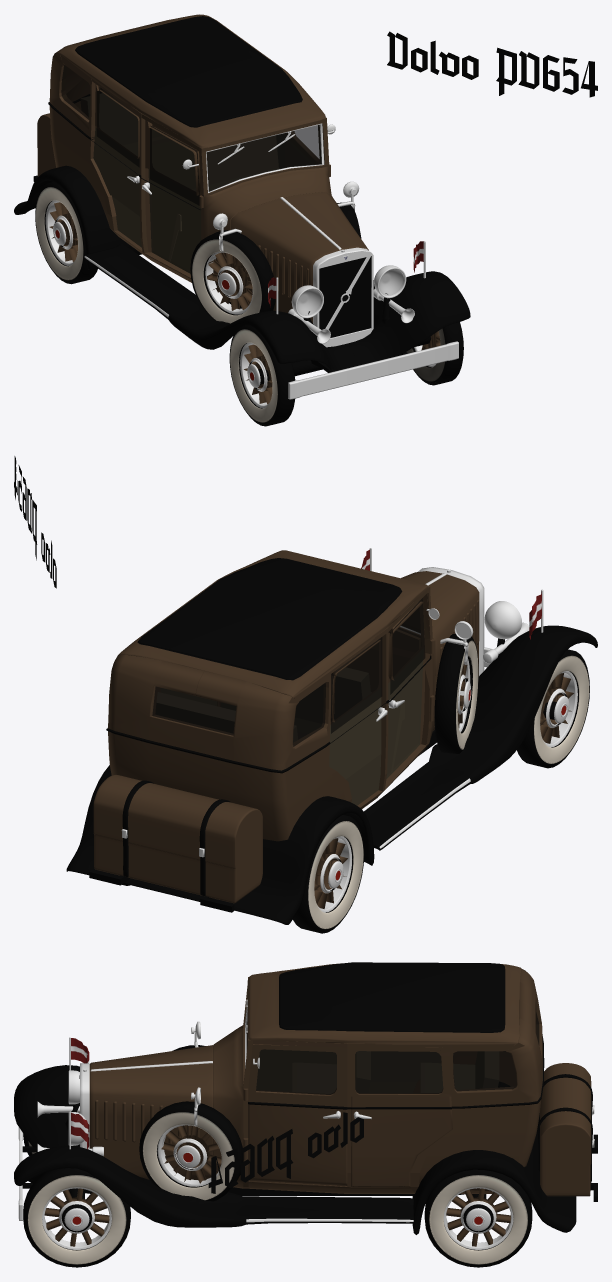
Rendered from volvo_pv654_sedan_free_v2.glb.
3 views of the same model, one above another, from view 1: azimuth 30°, elevation 25°; view 2: azimuth 150°, elevation 25°; view 3: azimuth 270°, elevation 25° (orthographic). The views are drawn at different scales.
Parts seen in each view (by area): view 1: Plane.001, Cube.005, Cube.008, Cube.023, Cube.022, Cube.024, Cube.019, Cylinder.016, Cube.020, Cylinder.017, Text, Cube.015 (+9 smaller); view 2: Plane.001, Cube.005, Cube.032, Cube.008, Cube.015, Cube.024, Cube.023, Cylinder.017, Cylinder.016, Cube.022, Cube.020, Cube.021 (+3 smaller); view 3: Plane.001, Cube.005, Cube.008, Cube.016, Cube.017, Cylinder.009, Cylinder.015, Cube.022, Cube.032, Cube.015, Text, Cube.024 (+9 smaller).
Part boxes in pixels (box(x1,y1,x2,y2)): Plane.001: box(48, 19, 373, 347); Cube.005: box(58, 14, 325, 147); Cube.008: box(84, 243, 470, 370); Cube.023: box(140, 118, 201, 273); Cube.022: box(190, 181, 361, 323); Cube.024: box(90, 84, 141, 247); Cube.019: box(206, 123, 324, 192); Cylinder.016: box(229, 325, 295, 426); Cube.020: box(152, 135, 279, 262); Cylinder.017: box(35, 182, 97, 284); Text: box(387, 31, 597, 97); Cube.015: box(14, 165, 141, 269); Plane.001: box(106, 567, 484, 841); Cube.005: box(119, 550, 428, 697); Cube.032: box(93, 774, 262, 903); Cube.008: box(364, 625, 597, 850); Cube.015: box(66, 765, 374, 924); Cube.024: box(329, 637, 387, 805); Cube.023: box(386, 593, 431, 788); Cylinder.017: box(293, 815, 364, 933); Cylinder.016: box(517, 649, 589, 768); Cube.022: box(434, 621, 478, 753); Cube.020: box(221, 667, 404, 773); Cube.021: box(155, 692, 297, 742); Plane.001: box(80, 969, 544, 1193); Cube.005: box(247, 962, 521, 1044); Cube.008: box(14, 1065, 413, 1227); Cube.016: box(248, 1044, 347, 1186); Cube.017: box(351, 1047, 452, 1187); Cylinder.009: box(424, 1169, 532, 1267); Cylinder.015: box(23, 1168, 130, 1267); Cube.022: box(139, 1021, 243, 1201); Cube.032: box(537, 1063, 594, 1196); Cube.015: box(412, 1081, 576, 1234); Text: box(208, 1112, 363, 1193); Cube.024: box(369, 1051, 441, 1092).
Bounding box in the file's own units: 602 × 305 × 711.
16 materials, 2 textured.
